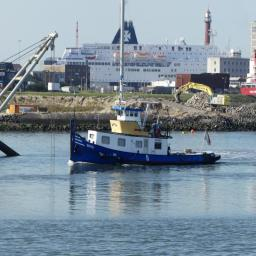tugboat: (68, 89, 223, 174)
